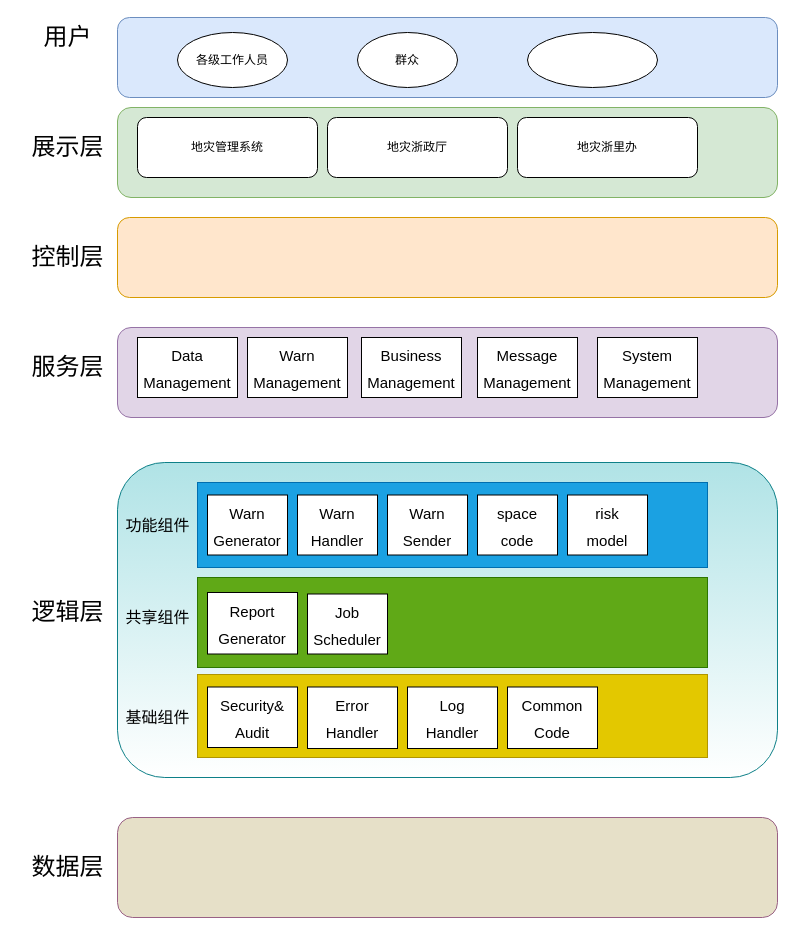
The diagram is 795 pixels wide and 935 high, and some of its shapes have lost their labels. The shapes that lost their labels are listed below. From the top down, each one's centre as x and y in pixels, then its label:
(x=592, y=60): 系统运维人员
(x=447, y=257): Rest Controller
(x=447, y=867): MySql
